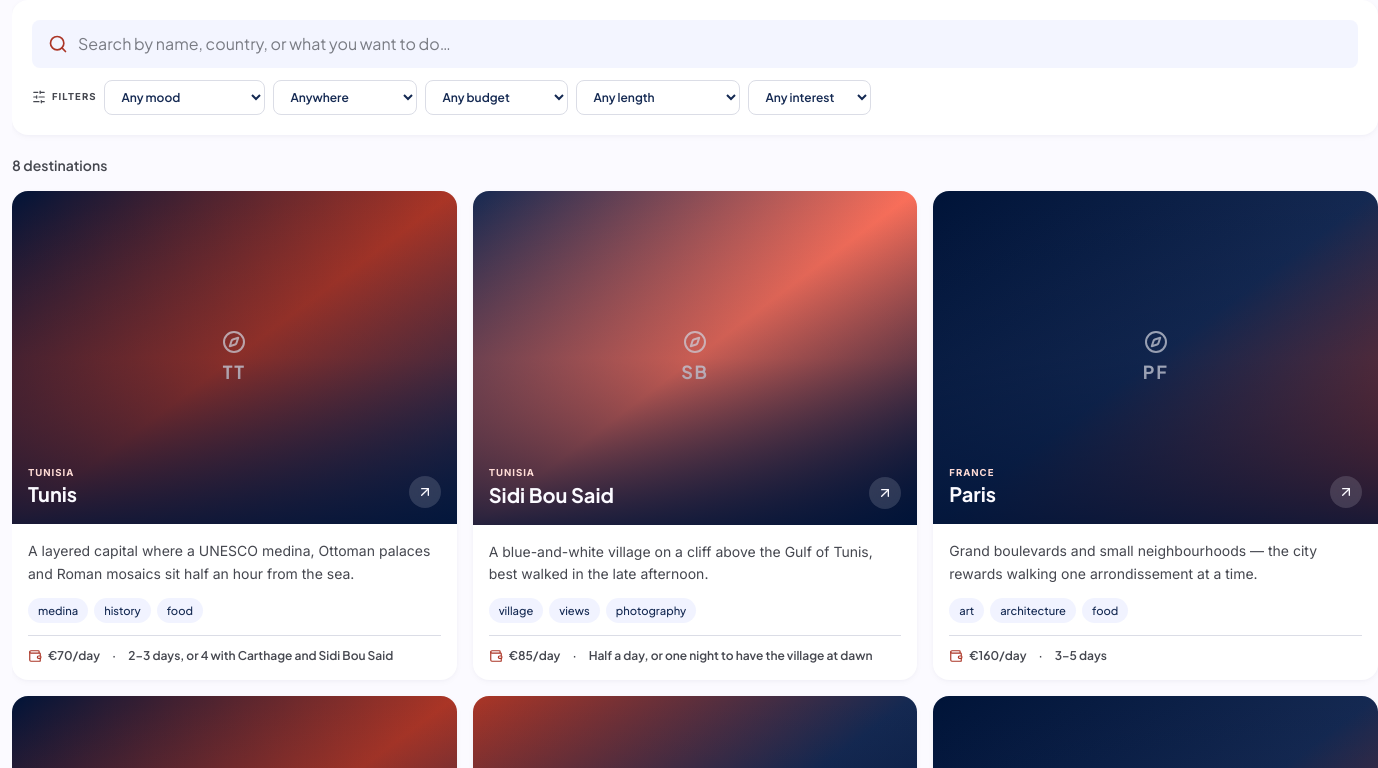
Test case: DestinationExplorer › filters by mood and by region, and combines the two
The image size is (1378, 768).
Select "North Africa" in the dropdown named "Region". click: (345, 98)
box: [273,80,417,115]
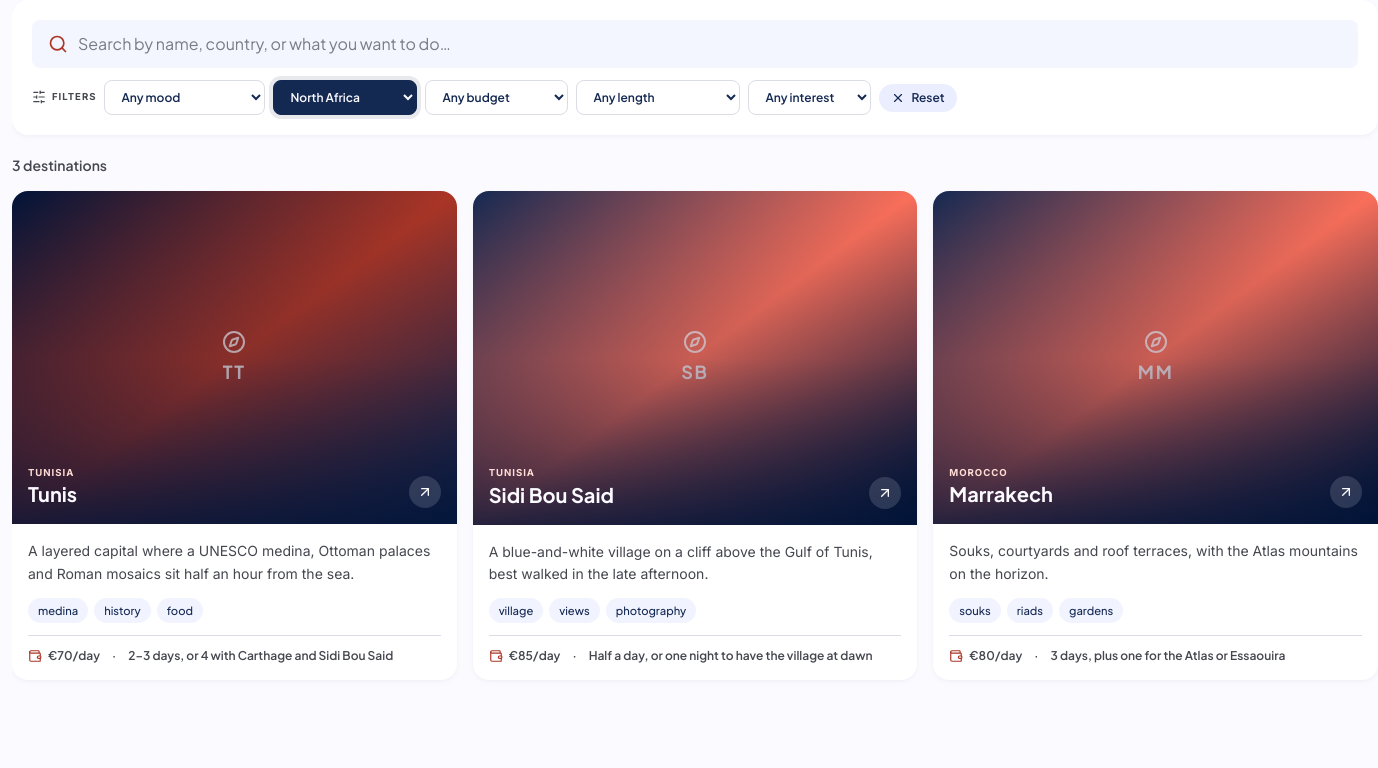
expect the number of list items is 3: met, box [12,191,457,680]; [473,191,917,680]; [933,191,1377,680]
Select "Beaches & islands" in the dropdown named "Mood". click: (185, 98)
box: [104,80,265,115]
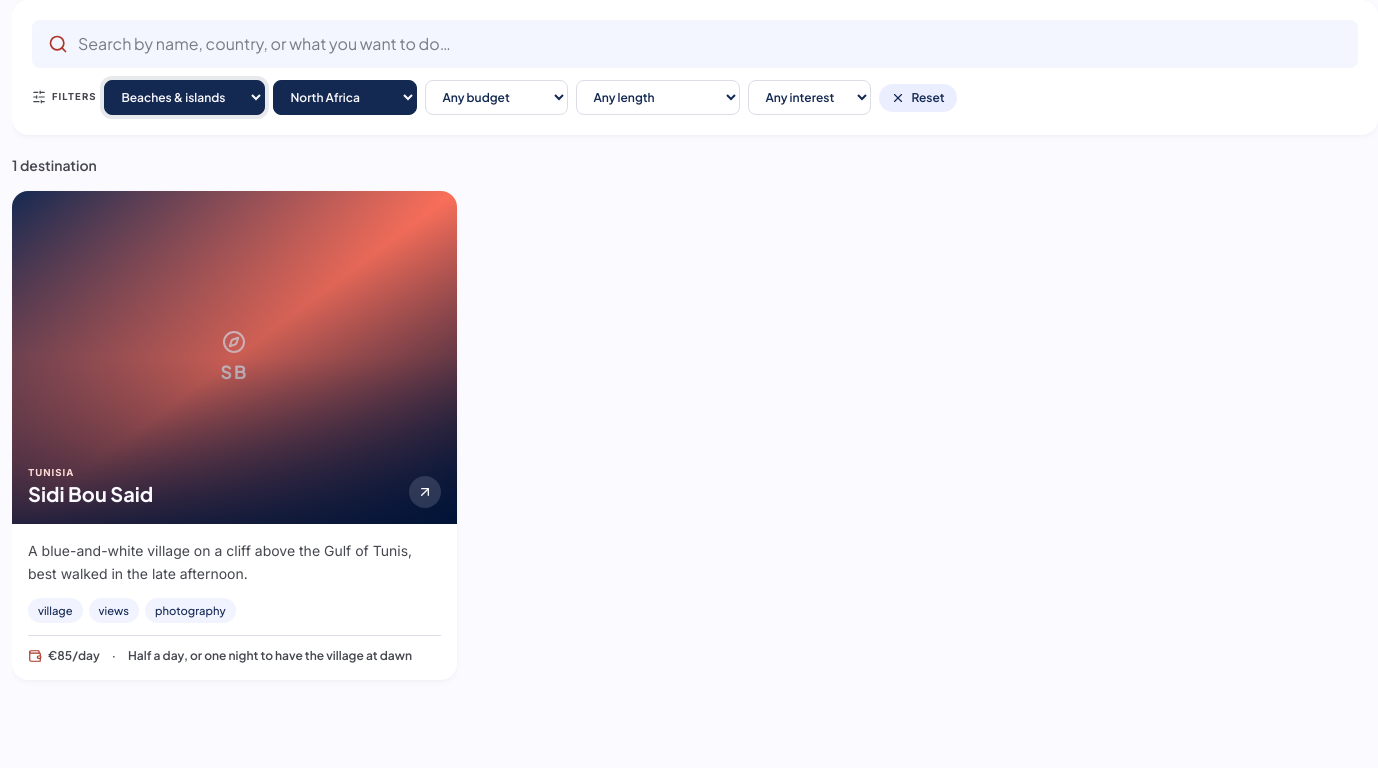
expect the text "Sidi Bou Said" is shown: met, box [28,480,153,508]
expect the number of list items is 1: met, box [12,191,457,680]
